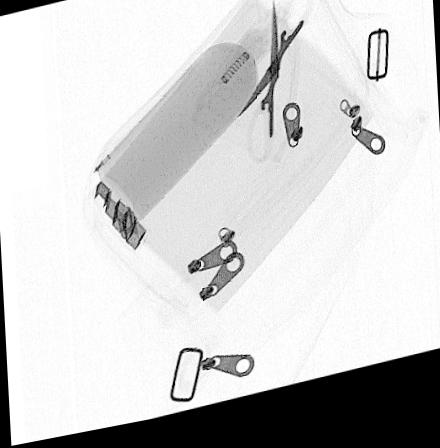Scissors: (237, 0, 313, 174)
